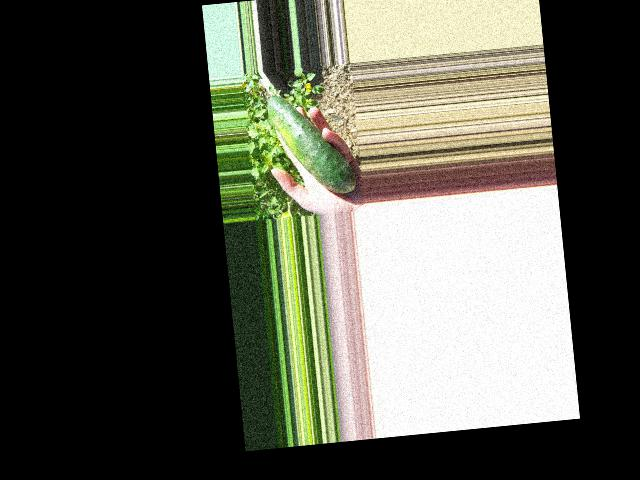cucumber: (266, 88, 356, 199)
